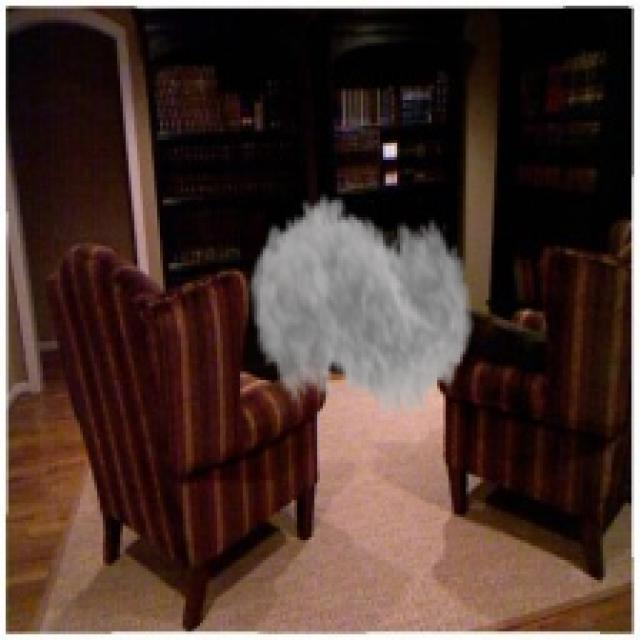smoke: (249, 174, 474, 446)
